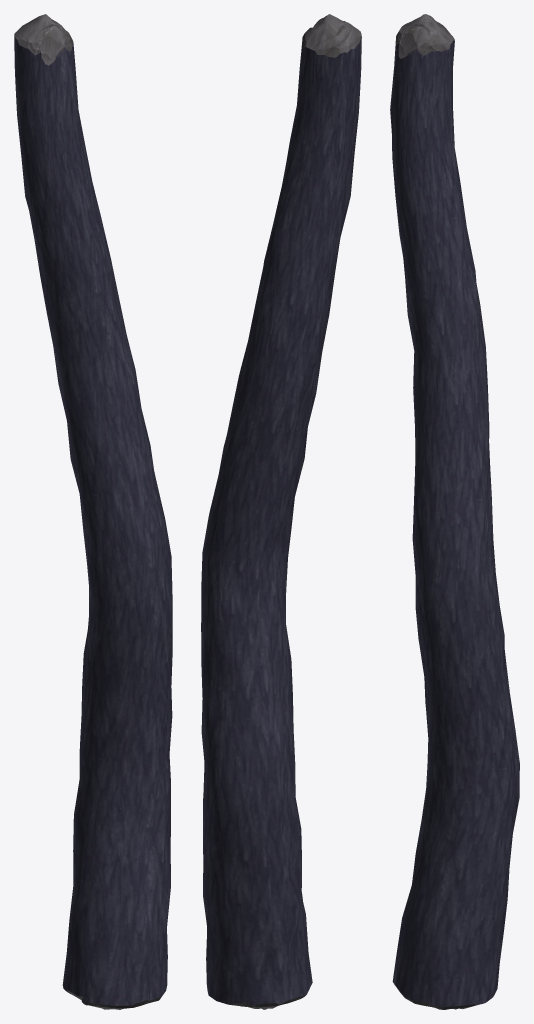
The picture shows the model from 3 angles, left to right: view 1: azimuth 30°, elevation 25°; view 2: azimuth 210°, elevation 25°; view 3: azimuth 330°, elevation 25°; orthographic projection. The views are drawn at different scales.
Parts seen in each view (by area): view 1: SM_Willow_03_half_mid_LOD0; view 2: SM_Willow_03_half_mid_LOD0; view 3: SM_Willow_03_half_mid_LOD0.
Part boxes in pixels (bbox=[...]): SM_Willow_03_half_mid_LOD0: bbox=[14, 14, 172, 1009]; SM_Willow_03_half_mid_LOD0: bbox=[201, 14, 361, 1009]; SM_Willow_03_half_mid_LOD0: bbox=[390, 14, 519, 1009].
Size of the model in its own units: 1.07 by 7.63 by 0.9251.
